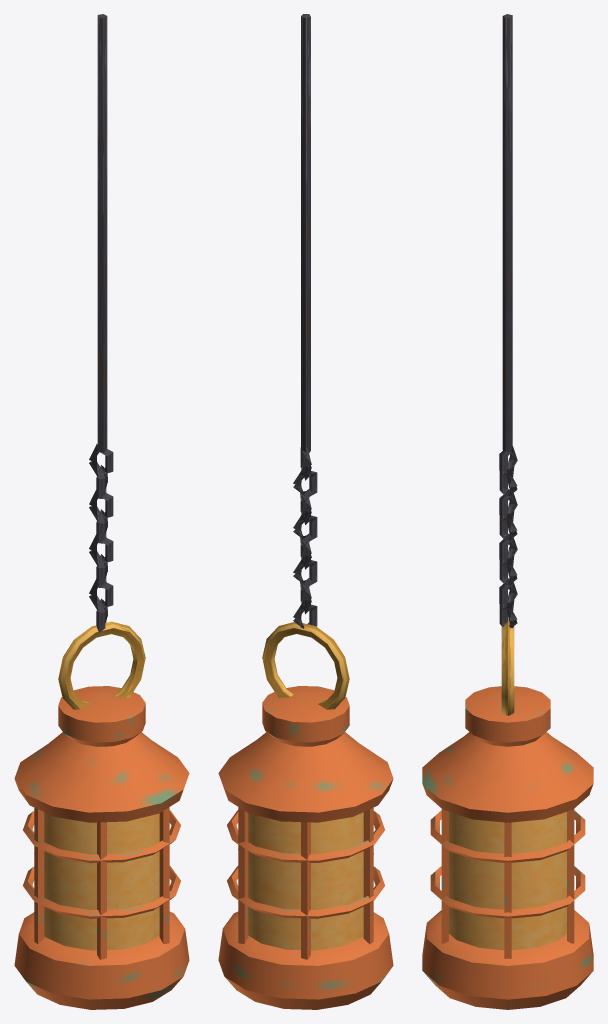
The model's file is Lamp_Ship.fbx.
3 views of the same model, side by side, from view 1: azimuth 30°, elevation 25°; view 2: azimuth 150°, elevation 25°; view 3: azimuth 270°, elevation 25° (orthographic).
Parts seen in each view (by area): view 1: Lamp_Ship; view 2: Lamp_Ship; view 3: Lamp_Ship.
Boxes of the visible parts, x1,y1,x2,y2 form: Lamp_Ship: (14, 14, 189, 1009); Lamp_Ship: (218, 14, 393, 1009); Lamp_Ship: (422, 14, 593, 1009).
Size of the model in its own units: 0.4 by 2.42 by 0.39.
2 materials, 2 textured.
